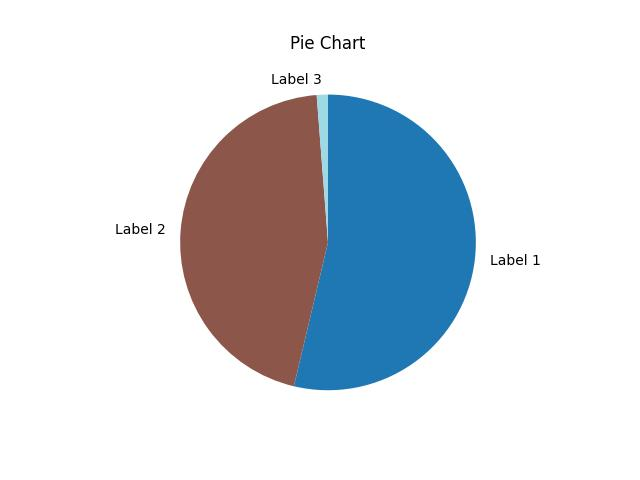sector: (294, 95, 475, 391), (180, 95, 328, 385), (317, 96, 329, 241)
